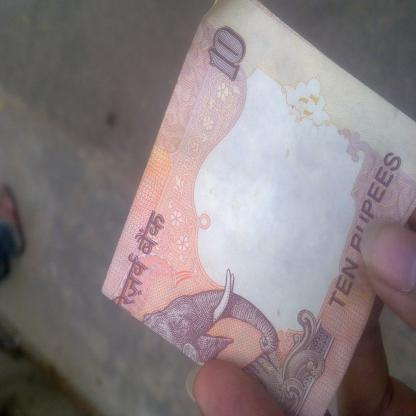Old10Back: (101, 0, 415, 415)
